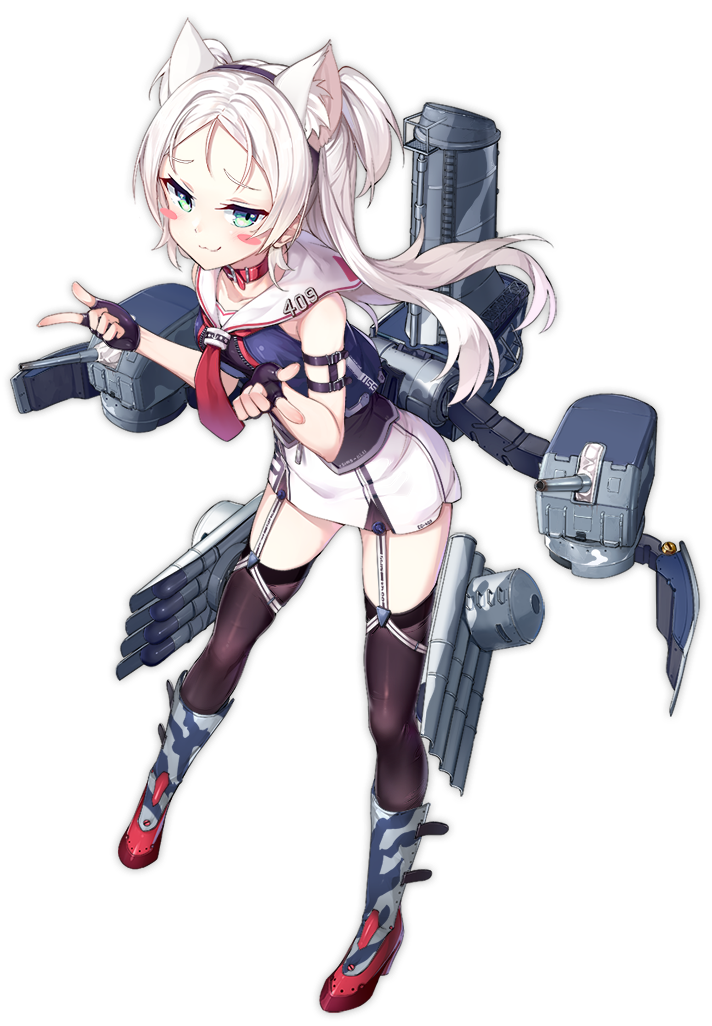person: (61, 52, 490, 828)
